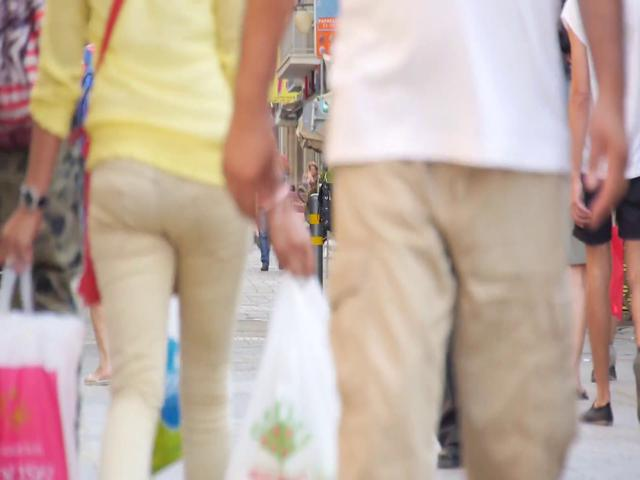shoe: (578, 402, 613, 426)
